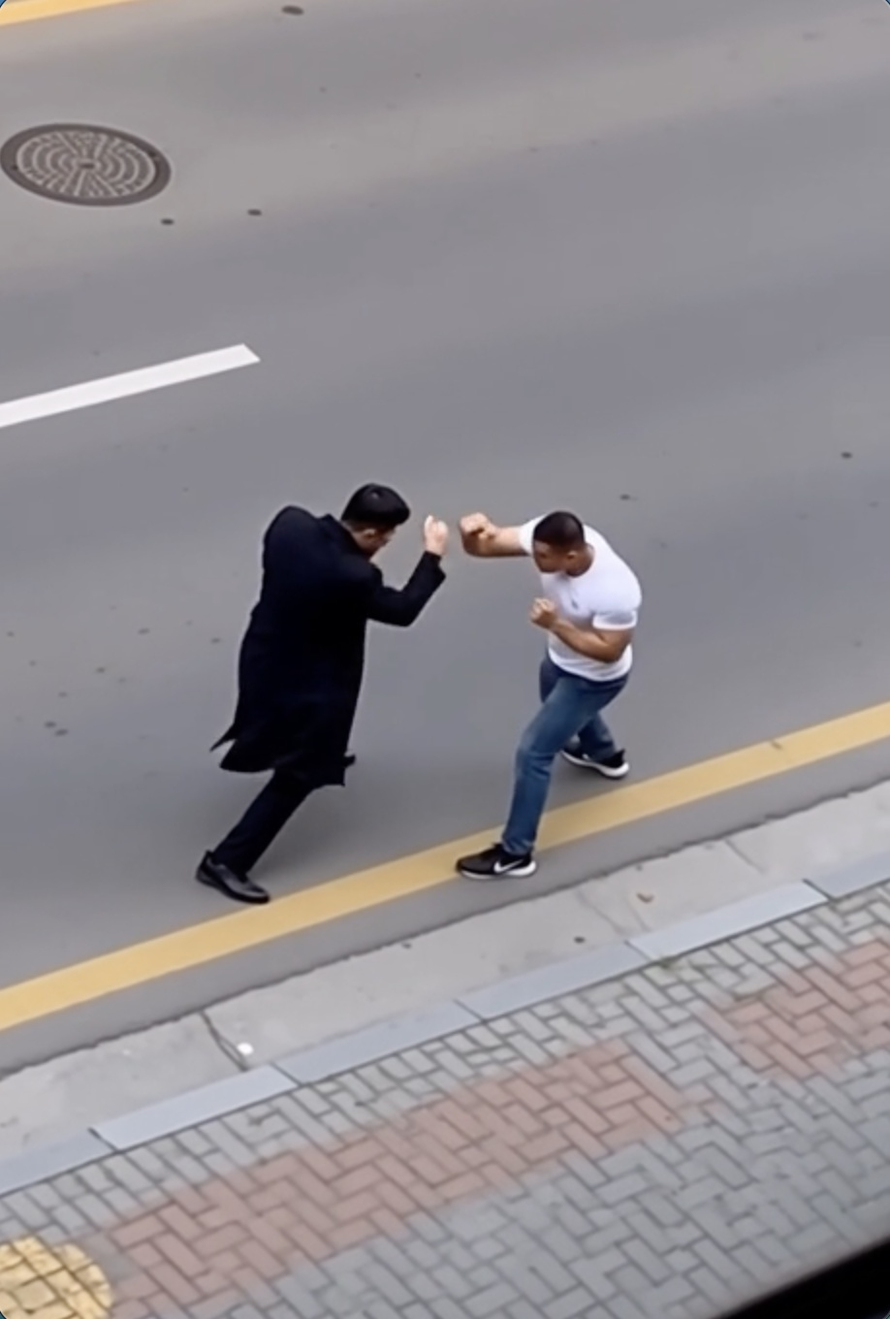Assault: (192, 484, 450, 907)
Fighting: (454, 509, 643, 879)
